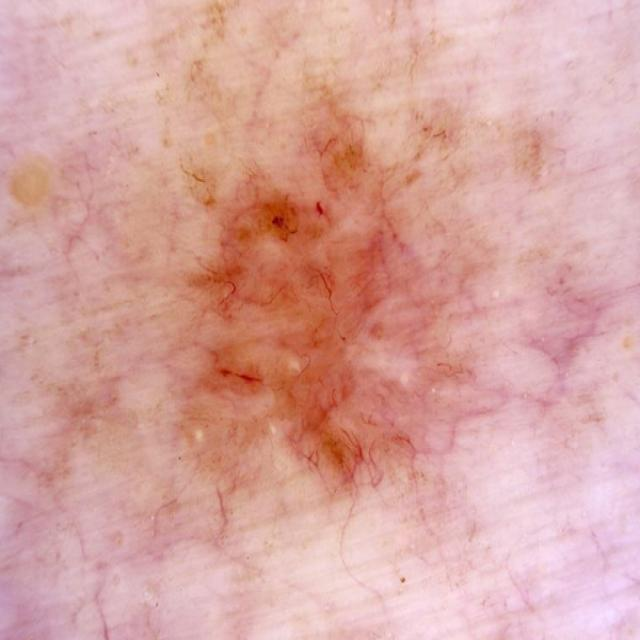Skin-Cancer Basal cell carcinoma: (46, 32, 640, 589)
